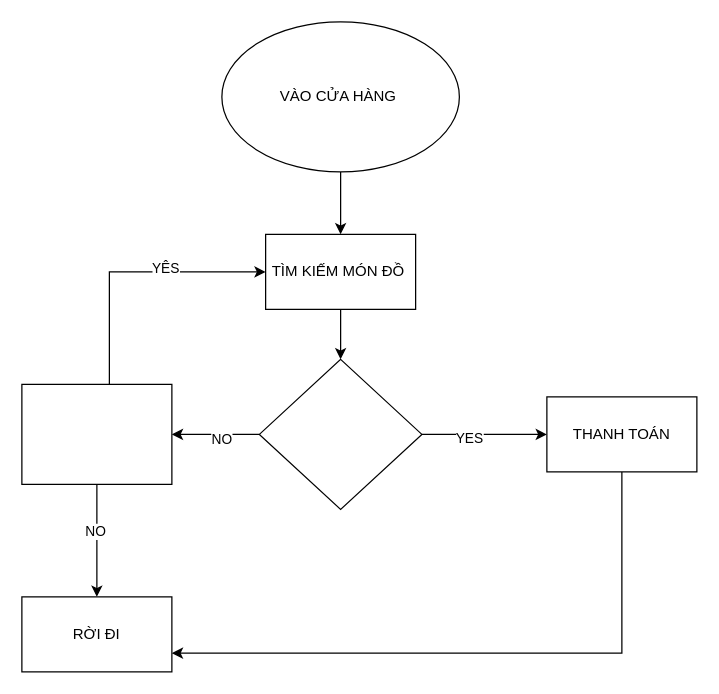
Some shapes in this 719 by 694 pixel diagram are drawn without their labels. The shapes that lost their labels are listed below. From the top down, each one's box as (x1, y1, x2, y2) in pixels, then its label:
(21, 383, 172, 484): HỎI NHÂN VIÊN
(258, 358, 422, 509): KIỂM TRA MÓN ĐỒ CẦN TÌM
